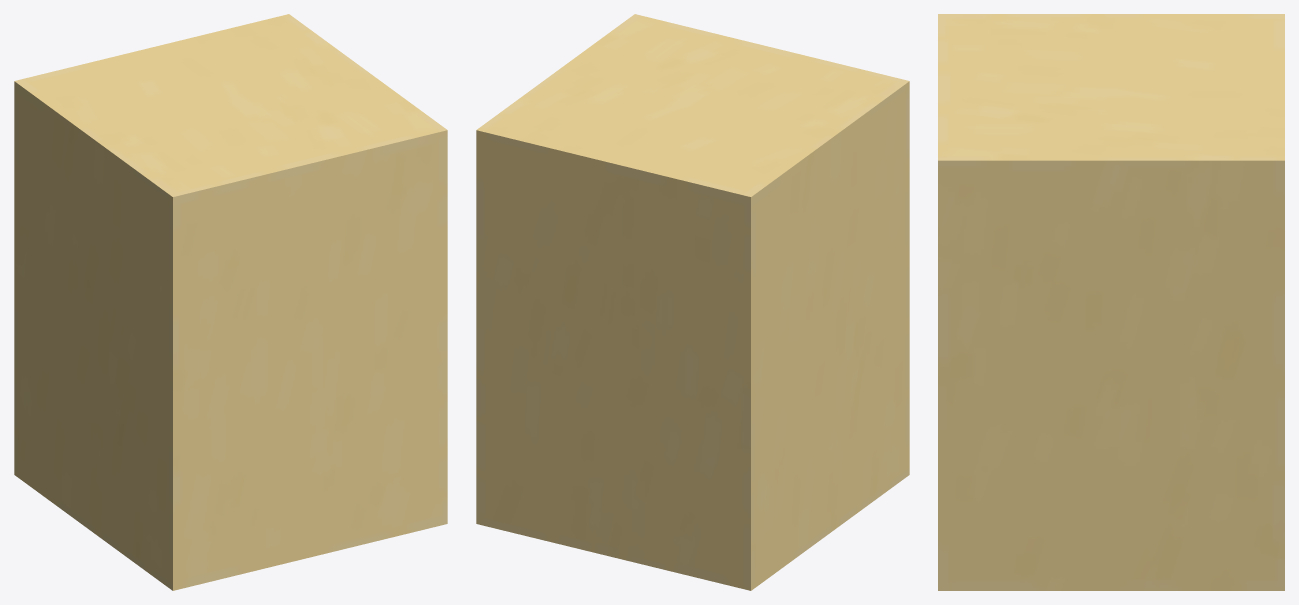
File: lantern_wall_glass.fbx
3 views of the same model, side by side, from view 1: azimuth 30°, elevation 25°; view 2: azimuth 150°, elevation 25°; view 3: azimuth 270°, elevation 25° (orthographic). The views are drawn at different scales.
Visible parts, largest first — view 1: lantern_wall_glass; view 2: lantern_wall_glass; view 3: lantern_wall_glass.
Part boxes in pixels (box(x1,y1,x2,y2)): lantern_wall_glass: box(14, 14, 447, 590); lantern_wall_glass: box(476, 14, 909, 590); lantern_wall_glass: box(938, 14, 1284, 590).
Bounding box in the file's own units: 0.84 × 1.15 × 0.84.
